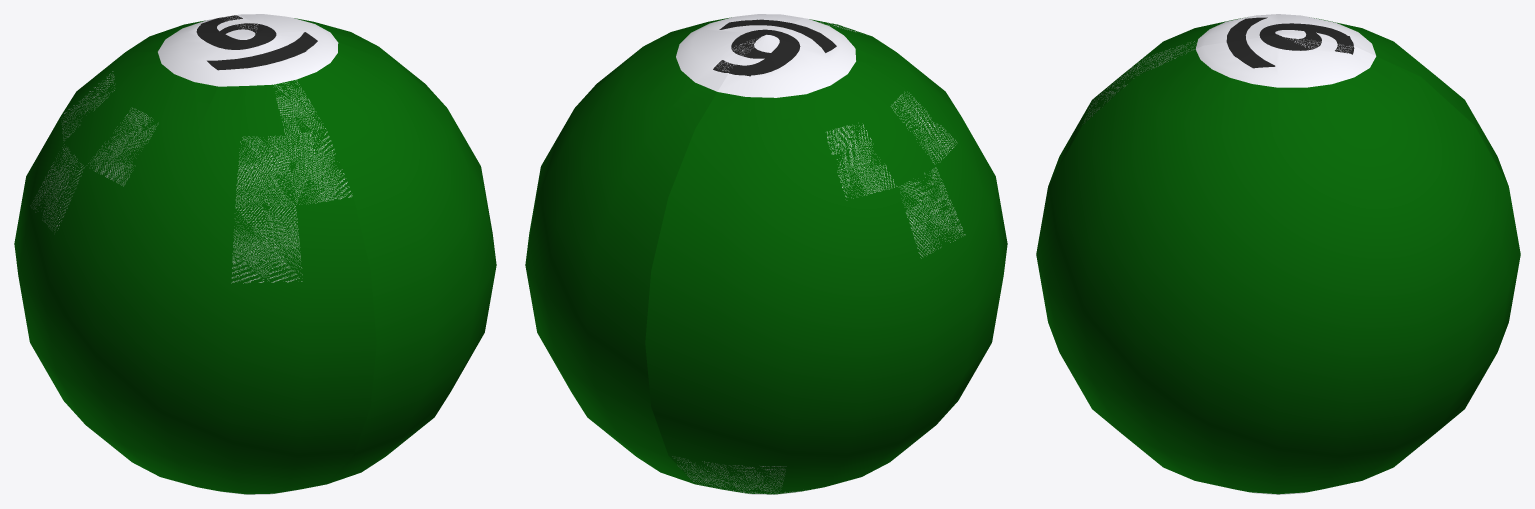
The model's file is 6ball.dae.
3 renders of one model, left to right at view 1: azimuth 30°, elevation 25°; view 2: azimuth 150°, elevation 25°; view 3: azimuth 270°, elevation 25°, orthographic.
Parts seen in each view (by area): view 1: Billiard_Ball__6_Green (×7); view 2: Billiard_Ball__6_Green (×7); view 3: Billiard_Ball__6_Green (×4).
Boxes of the visible parts, x1,y1,x2,y2 form: Billiard_Ball__6_Green (×7): [14, 14, 496, 494]; Billiard_Ball__6_Green (×7): [525, 14, 1007, 494]; Billiard_Ball__6_Green (×4): [1036, 14, 1520, 494].
Size of the model in its own units: 1.58 by 1.58 by 1.58.
